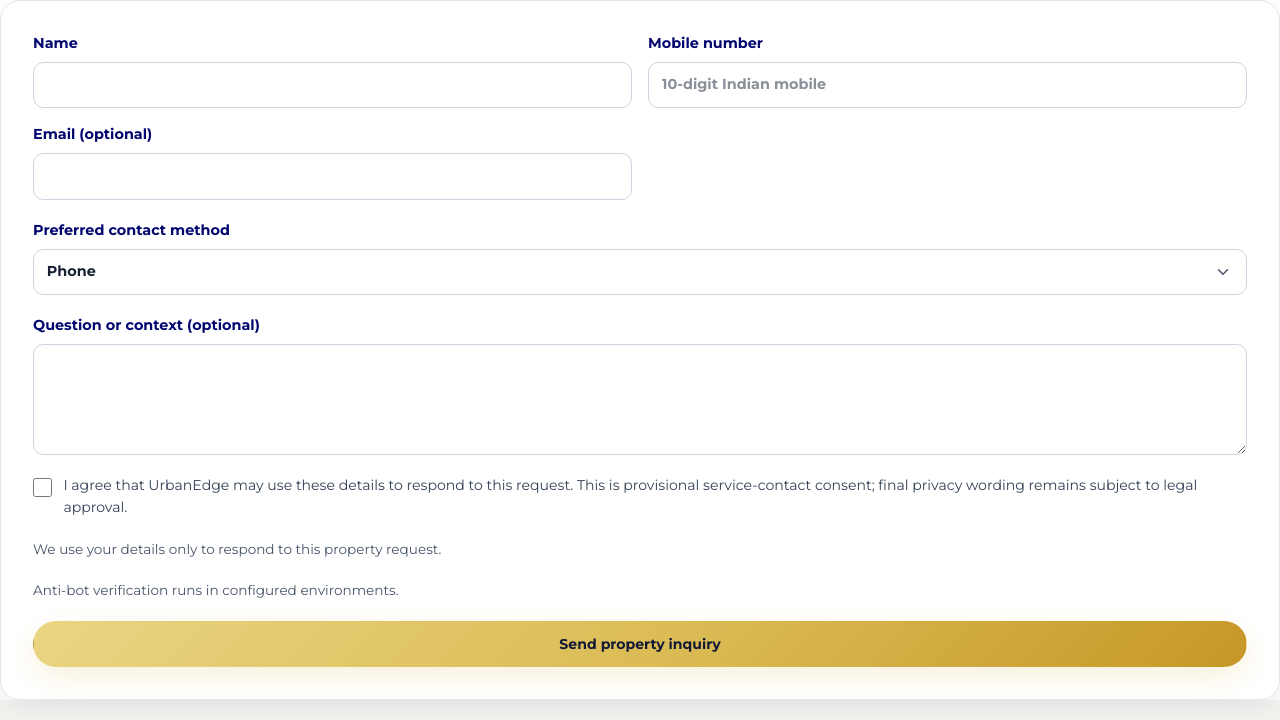
Test: M13 public intake forms › submits a compact property inquiry and announces safe success
Type "Synthetic Visitor" into the field labelled "Name" at (332, 85), box [33,62,632,108]
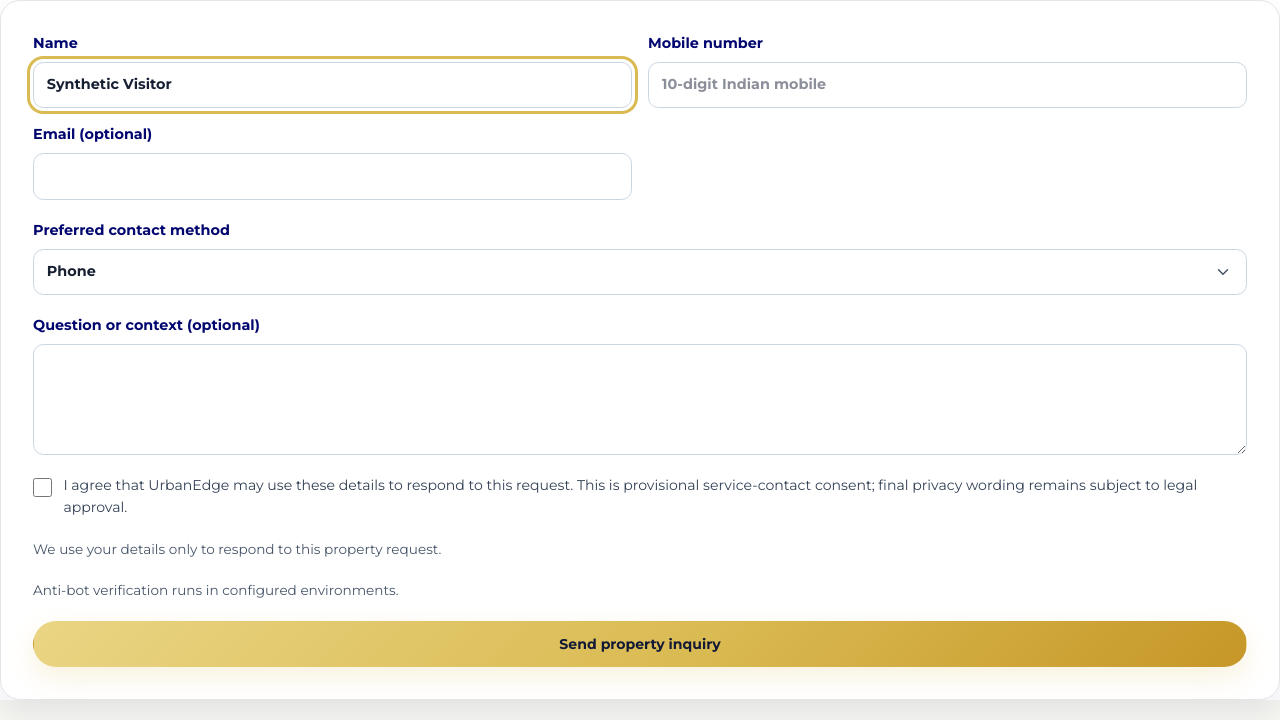
Type "9876543210" into the field labelled "Mobile number" at (948, 85), box [648,62,1247,108]
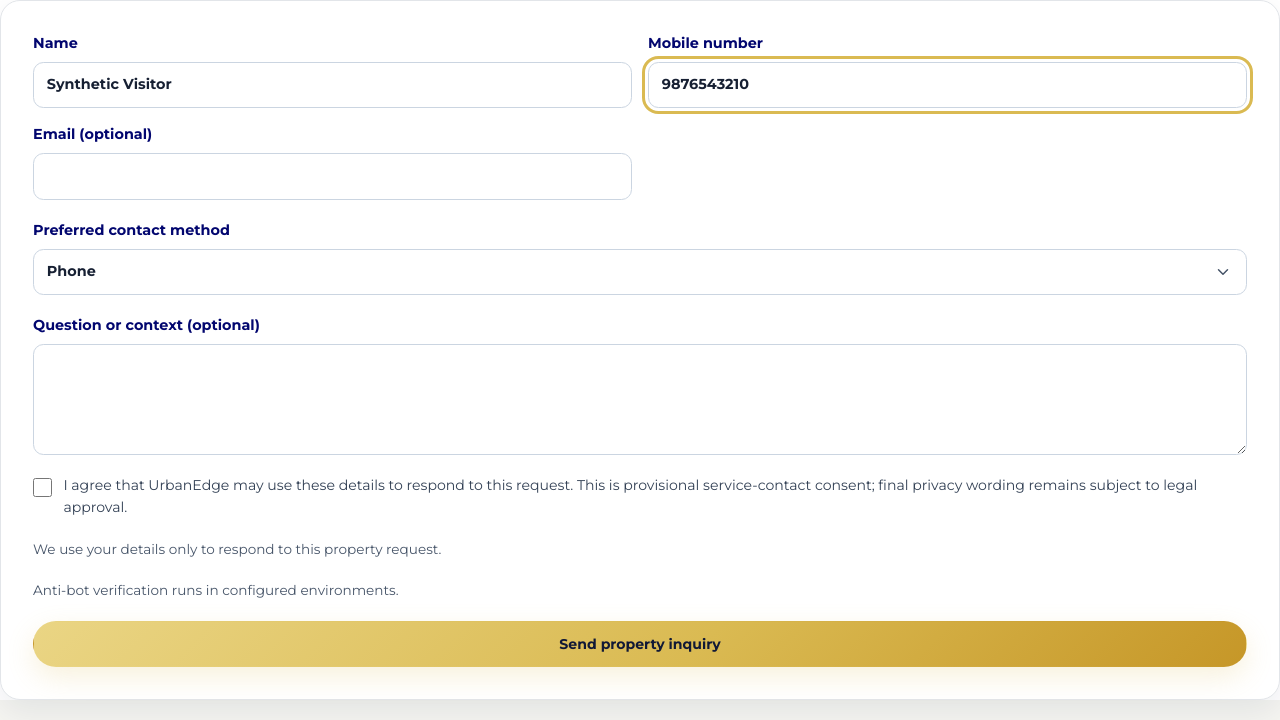
Click the checkbox at (43, 487), box [33,478,52,497]
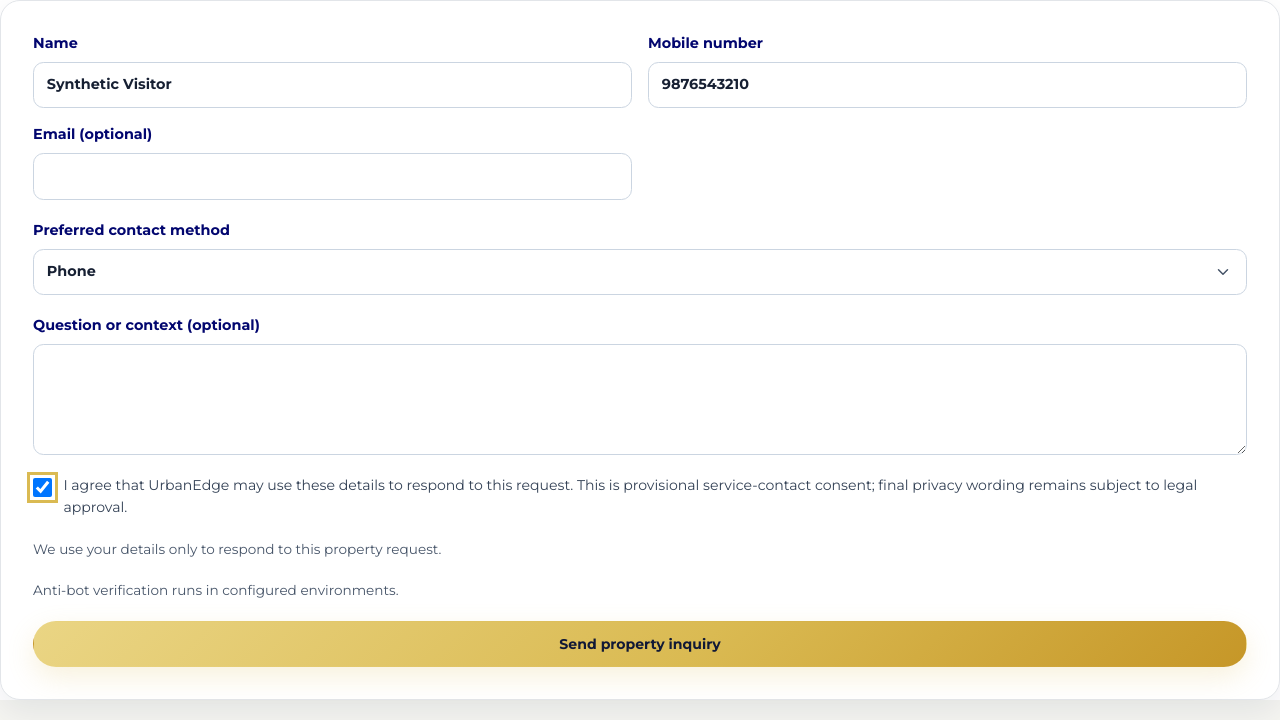
Click the button "Send property inquiry" at (640, 644), box [33,621,1247,667]
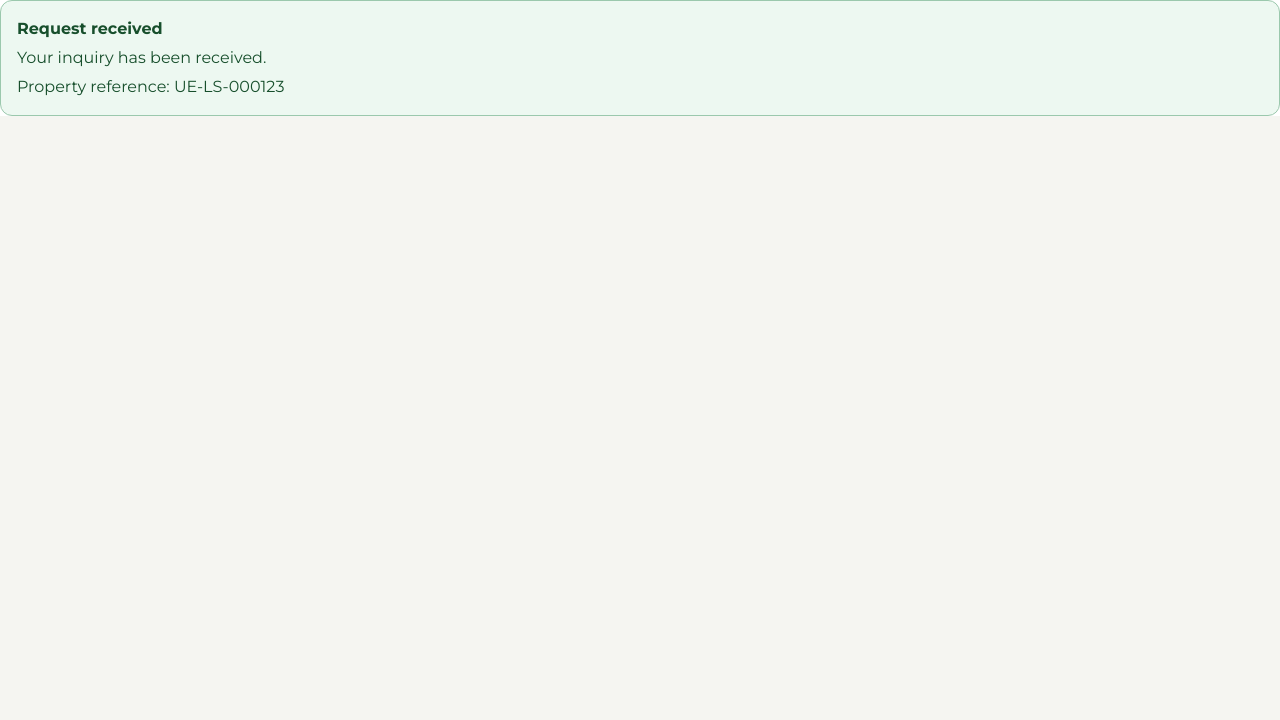
Expected: the message shows "Your inquiry has been received", [17,48,266,67]
Expected: the message shows "UE-LS-000123", [174,77,284,96]
